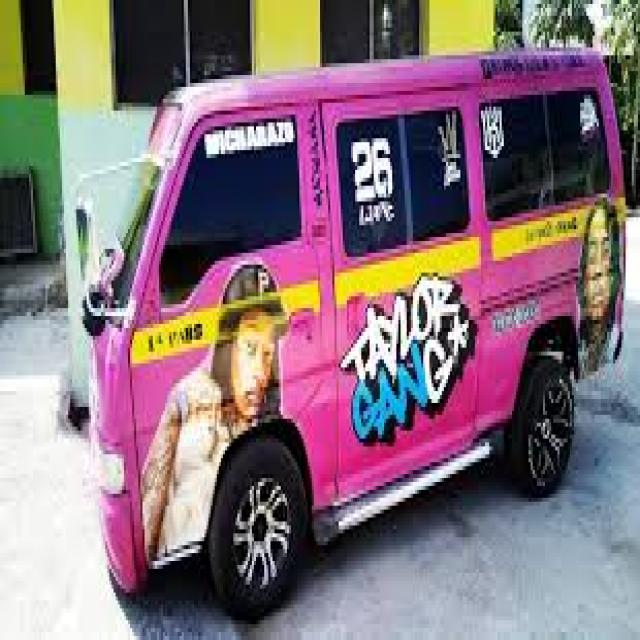matatu: (56, 14, 636, 632)
